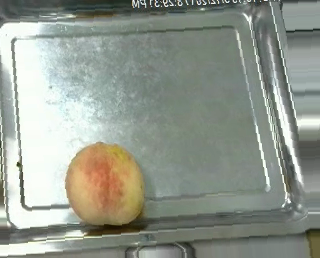Peach: (65, 142, 145, 226)
